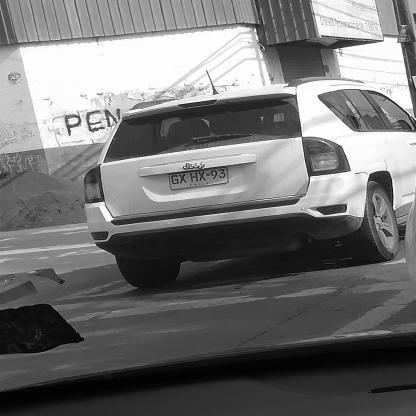Patente: (166, 165, 232, 193)
